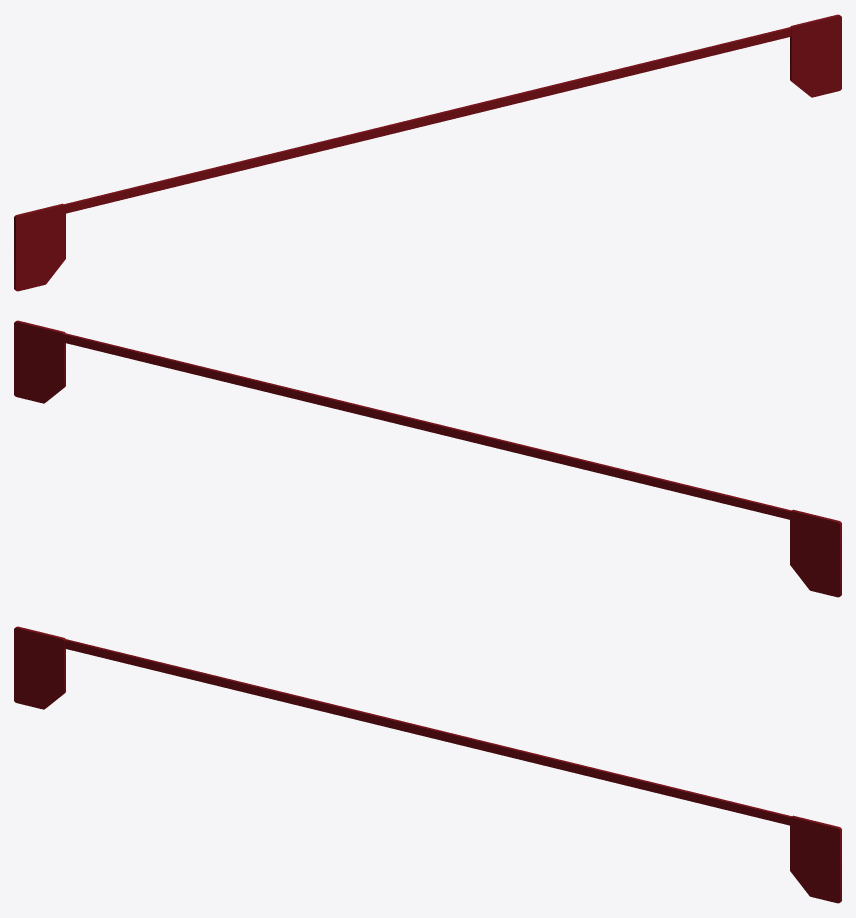
The model's file is red_sports_own_v3_lamp_tail.glb.
The picture shows the model from 3 angles, top to bottom: view 1: azimuth 30°, elevation 25°; view 2: azimuth 150°, elevation 25°; view 3: azimuth 330°, elevation 25°; orthographic projection.
Parts seen in each view (by area): view 1: red_sports_own_v3_lamp_tail; view 2: red_sports_own_v3_lamp_tail; view 3: red_sports_own_v3_lamp_tail.
Boxes of the visible parts, bbox=[...] form: red_sports_own_v3_lamp_tail: bbox=[14, 14, 841, 291]; red_sports_own_v3_lamp_tail: bbox=[14, 320, 841, 597]; red_sports_own_v3_lamp_tail: bbox=[14, 626, 841, 903].
Size of the model in its own units: 1.92 by 0.167 by 0.0075.
